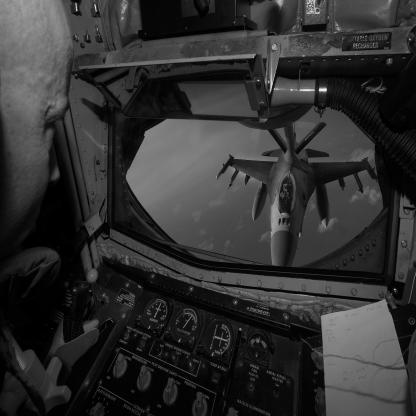F16: (217, 123, 380, 268)
